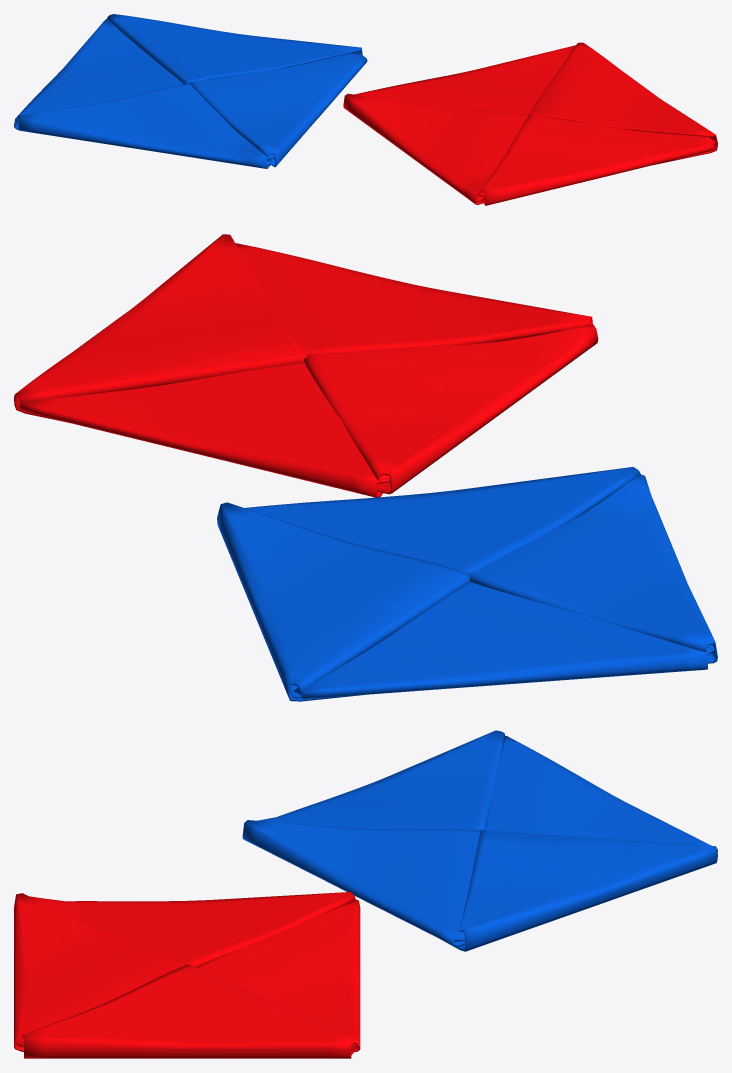
Rendered from ddakji.fbx.
3 renders of one model, top to bottom at view 1: azimuth 30°, elevation 25°; view 2: azimuth 150°, elevation 25°; view 3: azimuth 270°, elevation 25°, orthographic. The views are drawn at different scales.
Visible parts, largest first — view 1: ddakji blue, ddakji red; view 2: ddakji red, ddakji blue; view 3: ddakji red, ddakji blue.
Boxes of the visible parts, left/top/right/bottom form: ddakji blue: left=14, top=14, right=367, bottom=168; ddakji red: left=343, top=42, right=717, bottom=205; ddakji red: left=14, top=234, right=598, bottom=497; ddakji blue: left=217, top=467, right=717, bottom=701; ddakji red: left=14, top=892, right=360, bottom=1058; ddakji blue: left=242, top=730, right=717, bottom=951.
Bounding box in the file's own units: 428 × 15.44 × 413.
